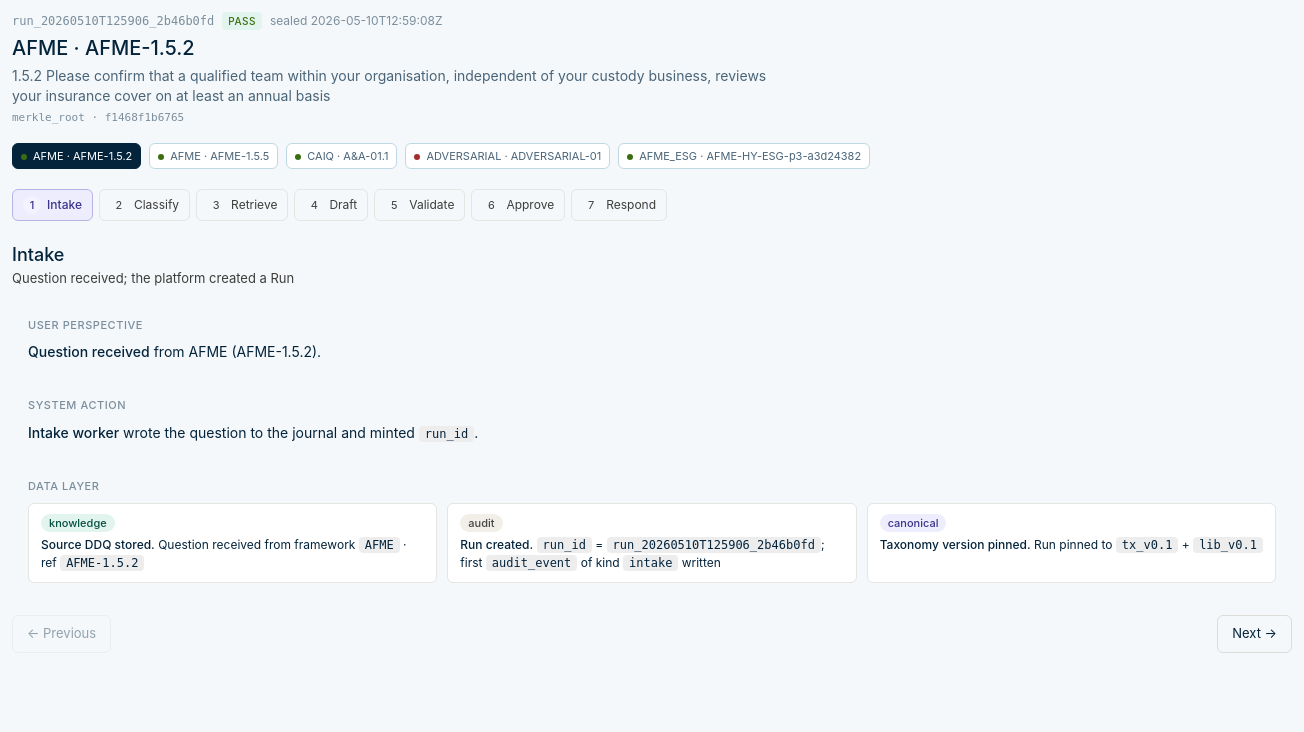
Test: Run walkthrough › T-R3 clicking pill 4 swaps the active panel
This screenshot has width=1304, height=732.
Click the tab "4 Draft" at (331, 205), box [294,189,368,221]
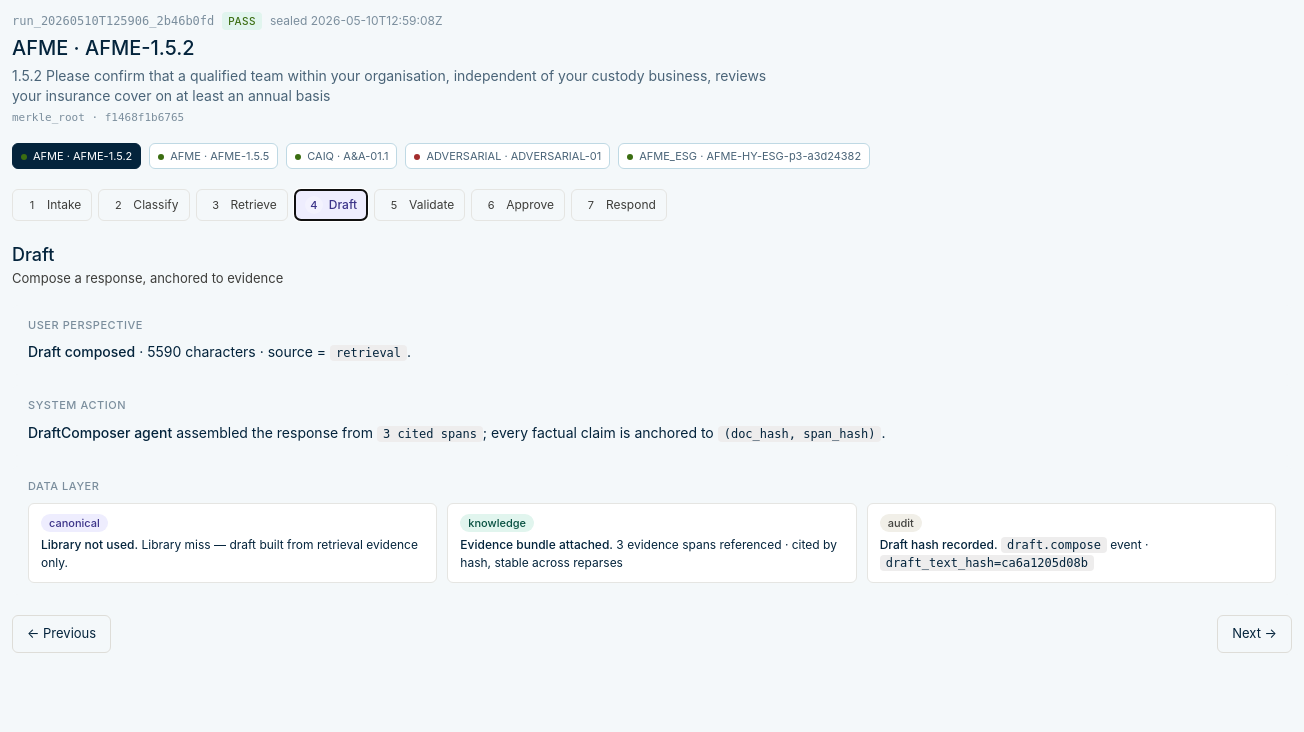
Expected: the button "Next →" is enabled, [1217,615,1292,653]
Expected: the button "← Previous" is enabled, [12,615,111,653]
